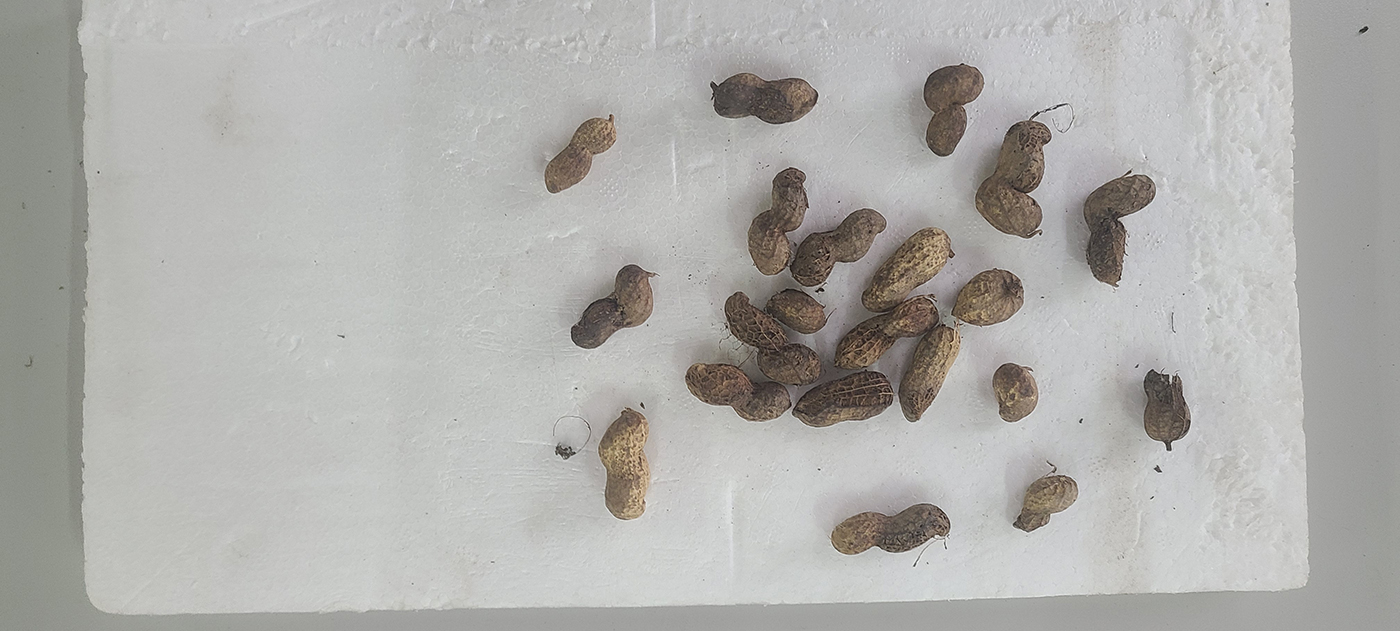l: (975, 119, 1050, 236), (725, 293, 820, 384), (1082, 172, 1157, 285), (834, 296, 938, 370), (862, 228, 953, 311), (793, 209, 888, 287), (572, 264, 655, 350), (746, 167, 809, 277), (833, 502, 950, 556), (685, 365, 791, 422), (899, 326, 962, 421), (543, 117, 617, 195), (792, 372, 894, 428), (923, 65, 985, 157), (600, 410, 651, 520), (712, 73, 818, 123), (954, 268, 1025, 327), (1013, 474, 1080, 532), (1142, 369, 1193, 443), (768, 289, 827, 333), (993, 364, 1038, 421)
